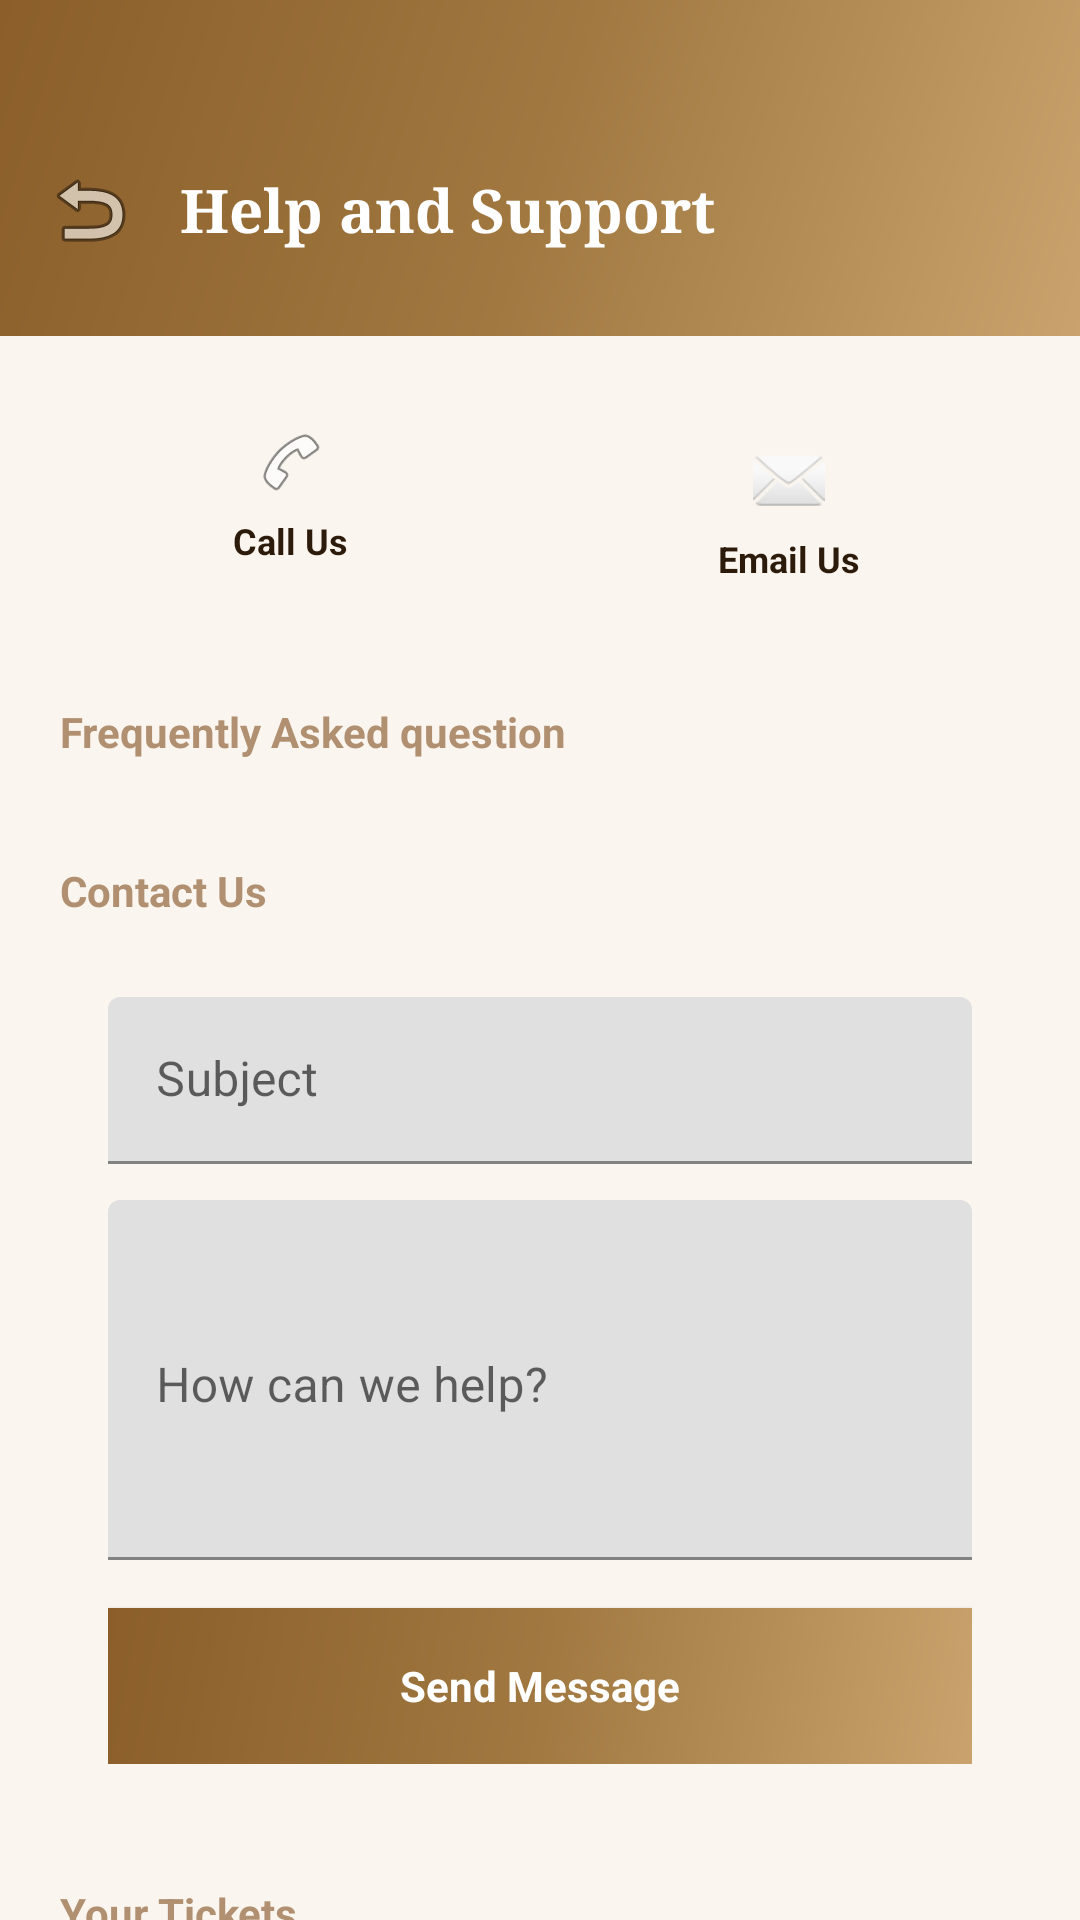

Icon click points for this 1080 x 1920 phone screenshot, format (x=x, y=y):
Back: (x=91, y=211)
